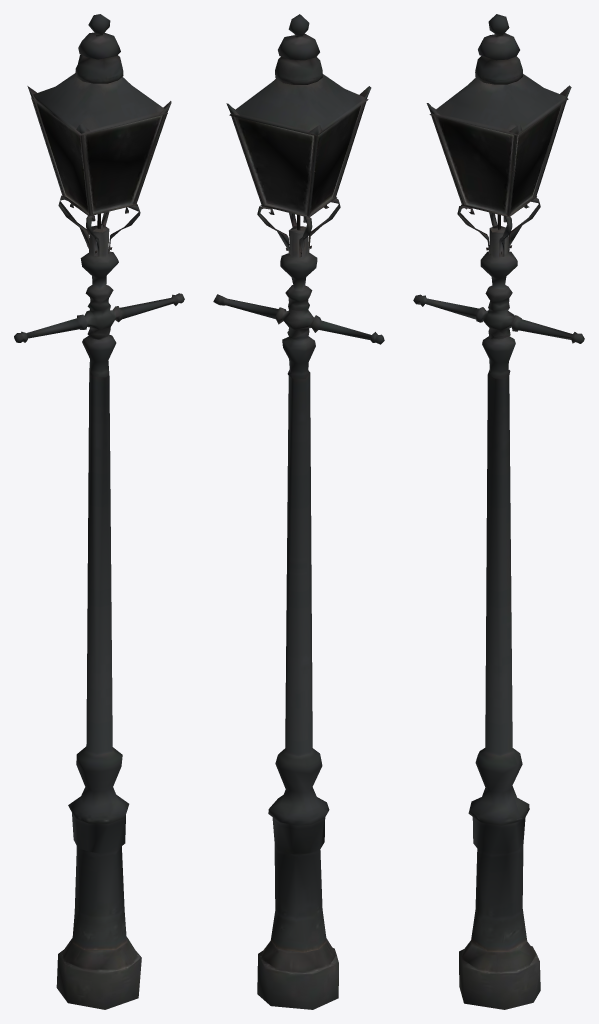
File: street_lamp_01.glb
3 renders of one model, left to right at view 1: azimuth 30°, elevation 25°; view 2: azimuth 150°, elevation 25°; view 3: azimuth 330°, elevation 25°, orthographic.
Visible parts, largest first — view 1: street_lamp_01; view 2: street_lamp_01; view 3: street_lamp_01.
Boxes of the visible parts, x1,y1,x2,y2 form: street_lamp_01: (14, 14, 184, 1009); street_lamp_01: (213, 14, 384, 1009); street_lamp_01: (413, 14, 584, 1009).
Bounding box in the file's own units: 0.7045 × 3.87 × 0.3849.
Materials: 3 (3 with a texture image).
